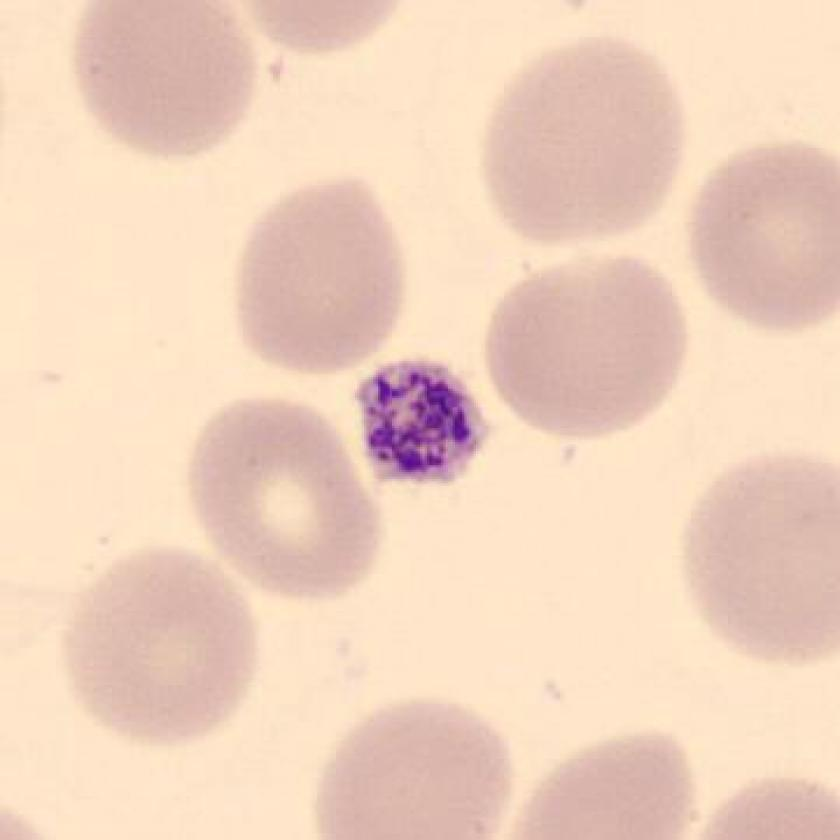platelets: (346, 350, 510, 501)
